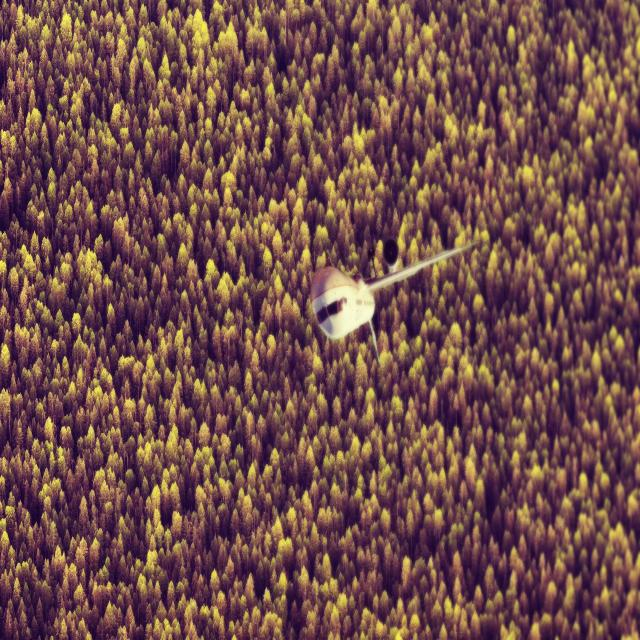airplane: (309, 236, 478, 364)
